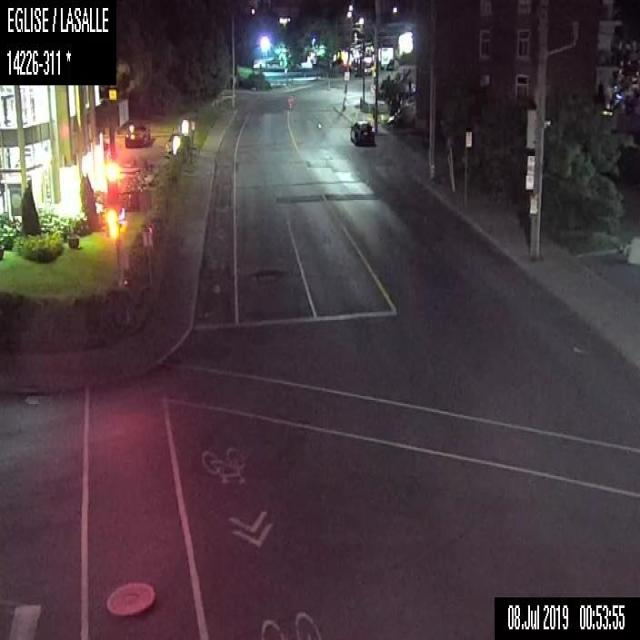vehicle: (123, 121, 149, 147), (348, 119, 375, 144)
